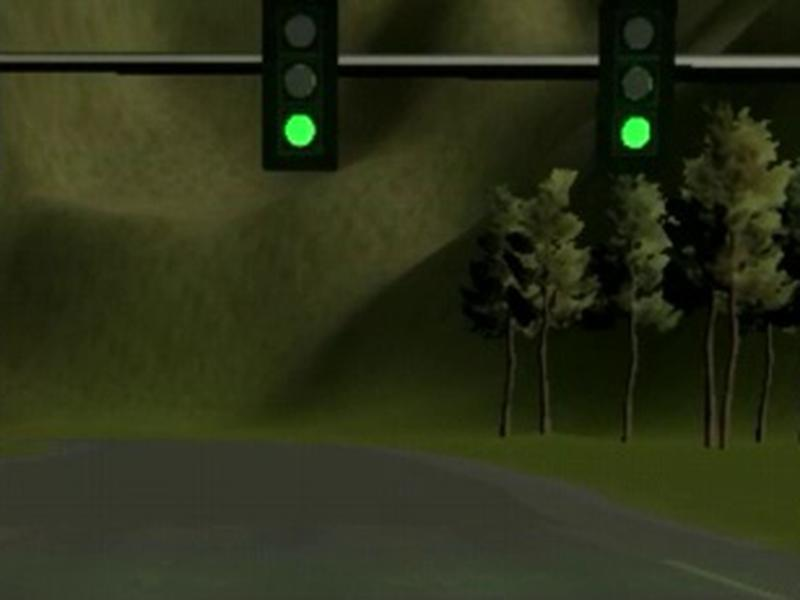Green: (261, 1, 340, 172), (598, 1, 675, 165)
